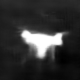plane: (17, 27, 70, 63)
